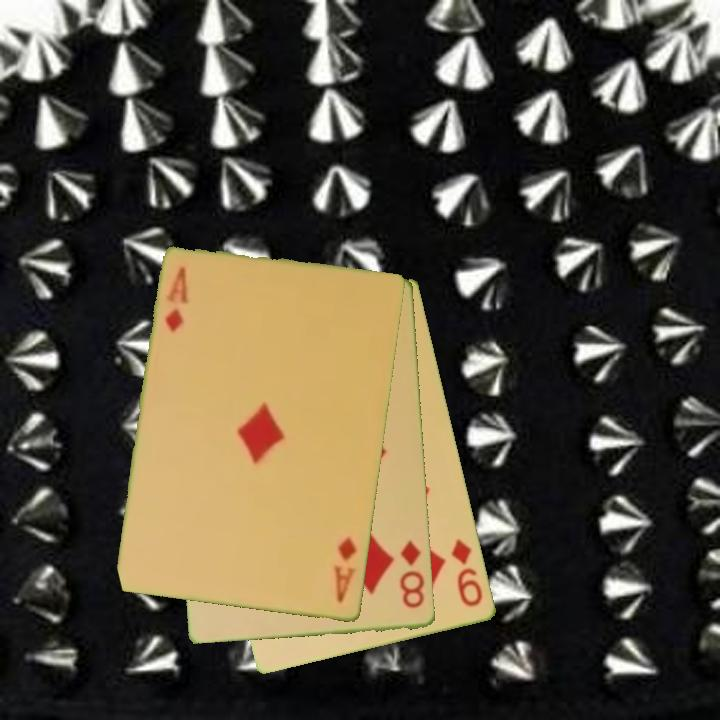8d: (396, 537, 428, 612)
9d: (448, 535, 486, 610)
Ad: (161, 263, 192, 335), (331, 533, 361, 607)
